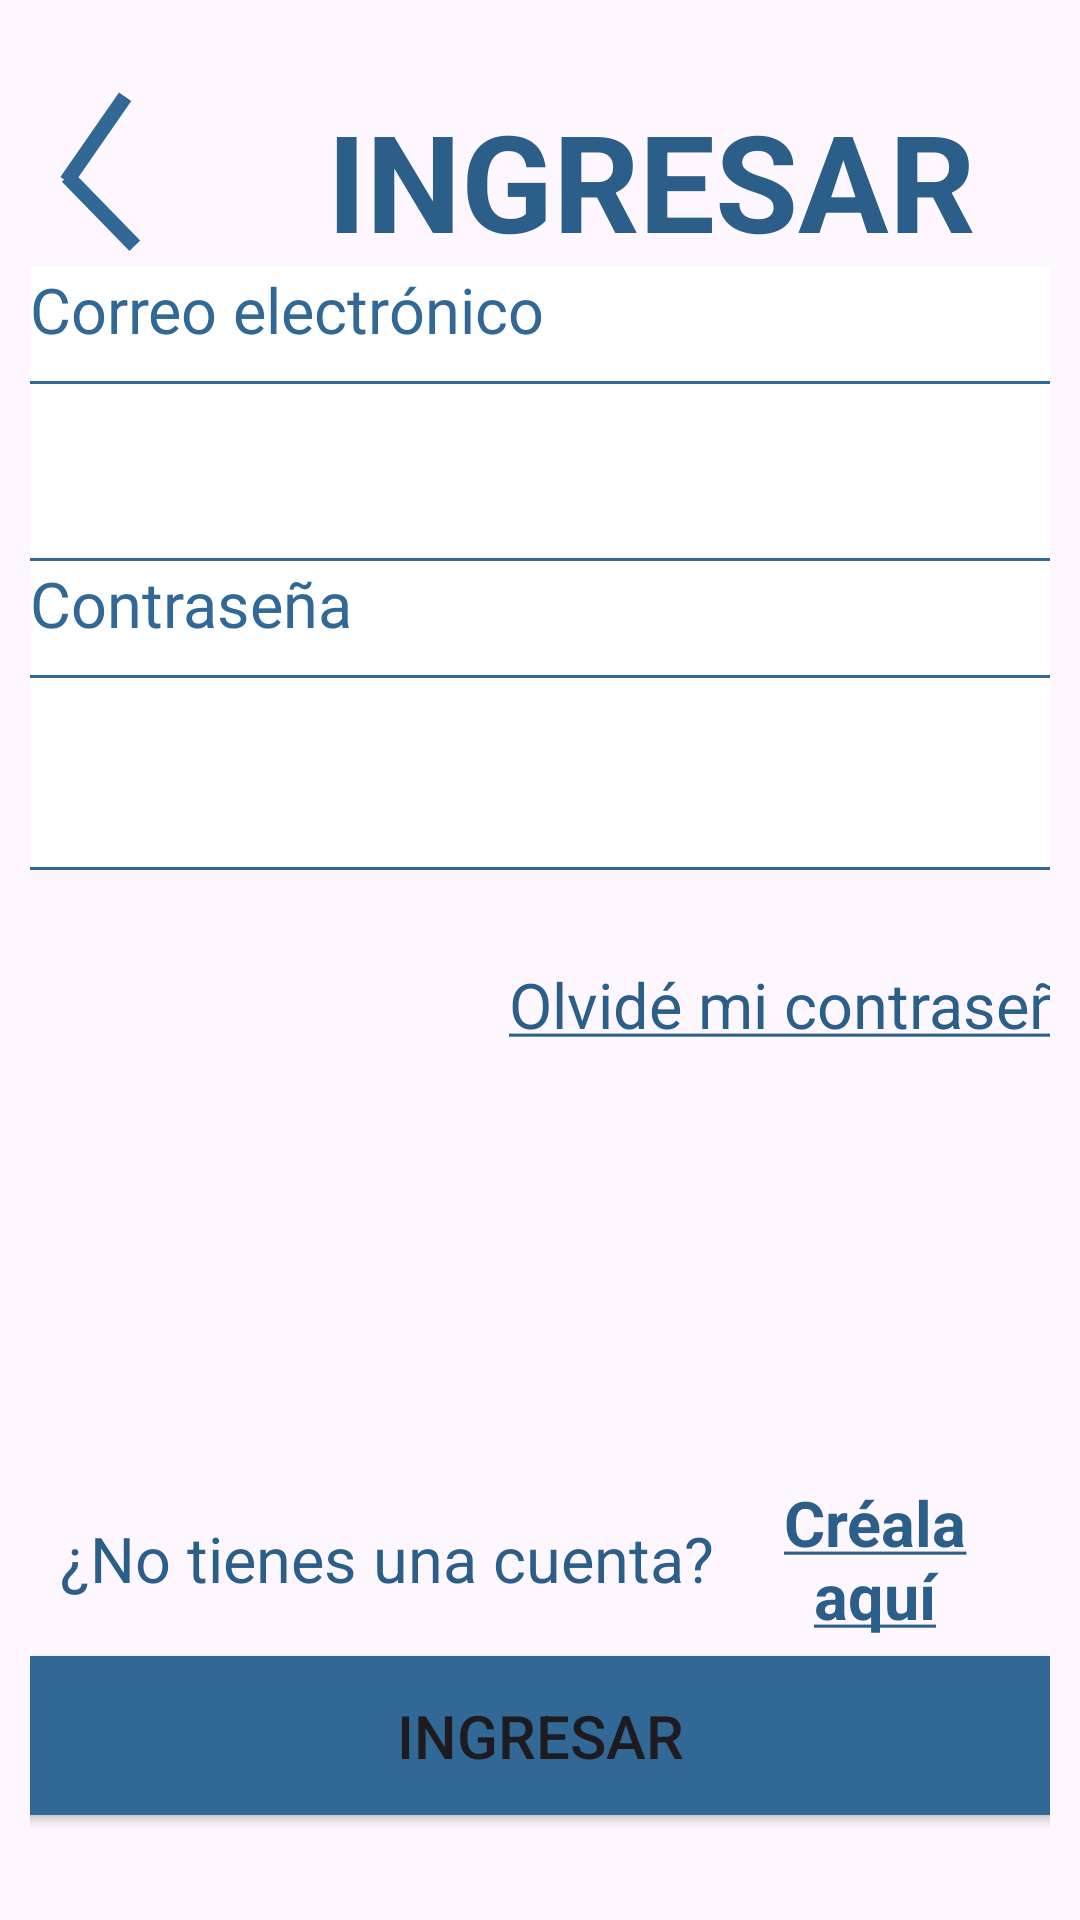

Point at icon controls on the screen. Image size 1080x1920, points as (x=x, y=y).
back arrow: (x=100, y=171)
